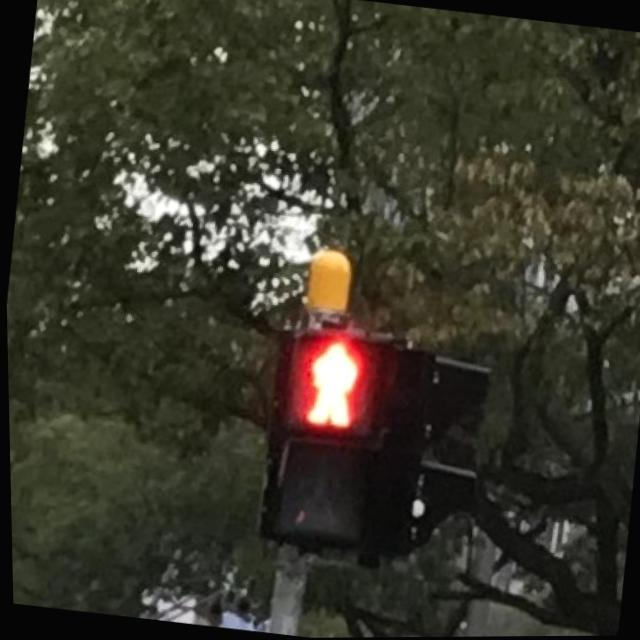red_light: (285, 331, 382, 439)
